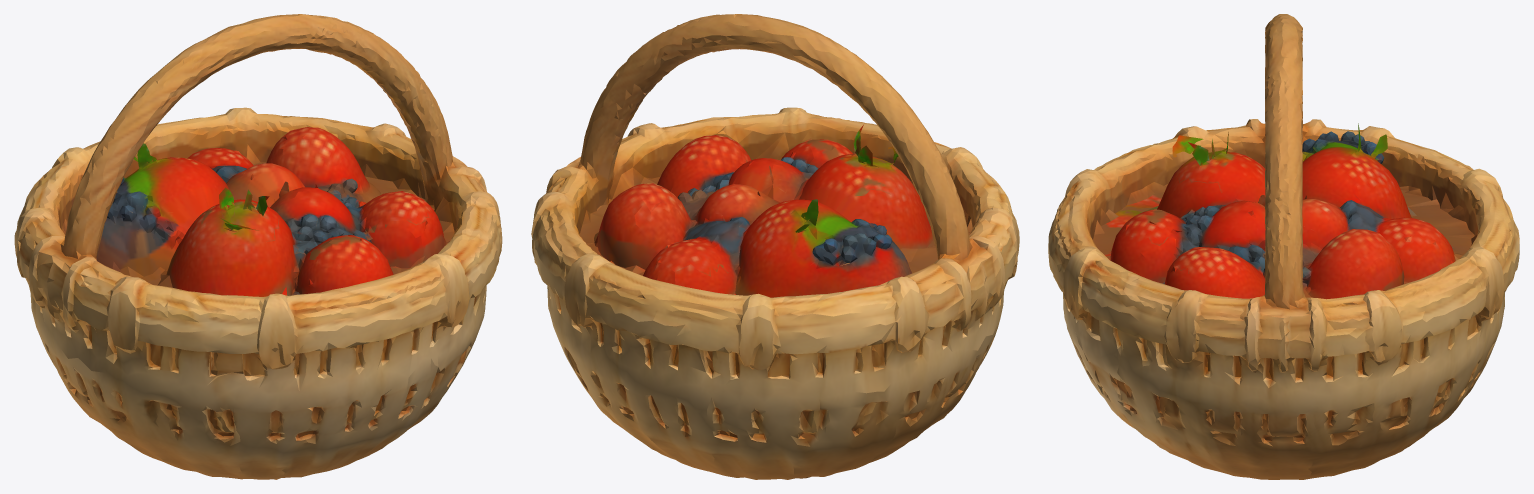
The picture shows the model from 3 angles, left to right: view 1: azimuth 30°, elevation 25°; view 2: azimuth 150°, elevation 25°; view 3: azimuth 270°, elevation 25°; orthographic projection. The views are drawn at different scales.
Parts seen in each view (by area): view 1: BerryBasket; view 2: BerryBasket; view 3: BerryBasket.
Part boxes in pixels (x1,y1,x2,y2): BerryBasket: (14,14,502,479); BerryBasket: (531,14,1019,479); BerryBasket: (1048,14,1519,479).
Bounding box in the file's own units: 1.9 × 1.75 × 1.89.
Materials: 1 (1 with a texture image).
